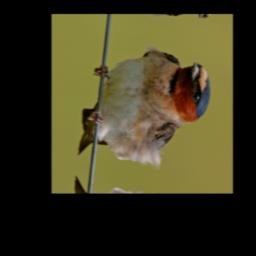Swallow: (76, 33, 215, 180)
